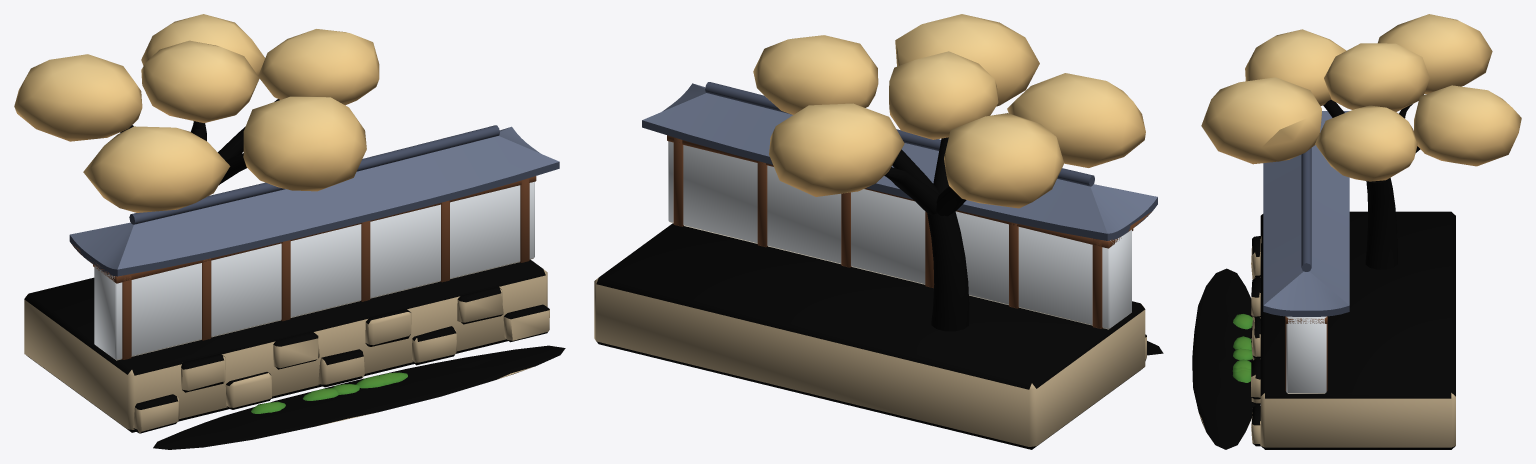
File: ShrineWallB.fbx
The picture shows the model from 3 angles, left to right: view 1: azimuth 30°, elevation 25°; view 2: azimuth 150°, elevation 25°; view 3: azimuth 270°, elevation 25°; orthographic projection. The views are drawn at different scales.
Visible parts, largest first — view 1: ShrineWallB; view 2: ShrineWallB; view 3: ShrineWallB.
Part boxes in pixels (<box>): ShrineWallB: <box>14,14,565,449</box>; ShrineWallB: <box>594,14,1163,449</box>; ShrineWallB: <box>1192,14,1521,449</box>.
Bounding box in the file's own units: 8.04 × 5.39 × 5.73.
2 materials, 2 textured.
